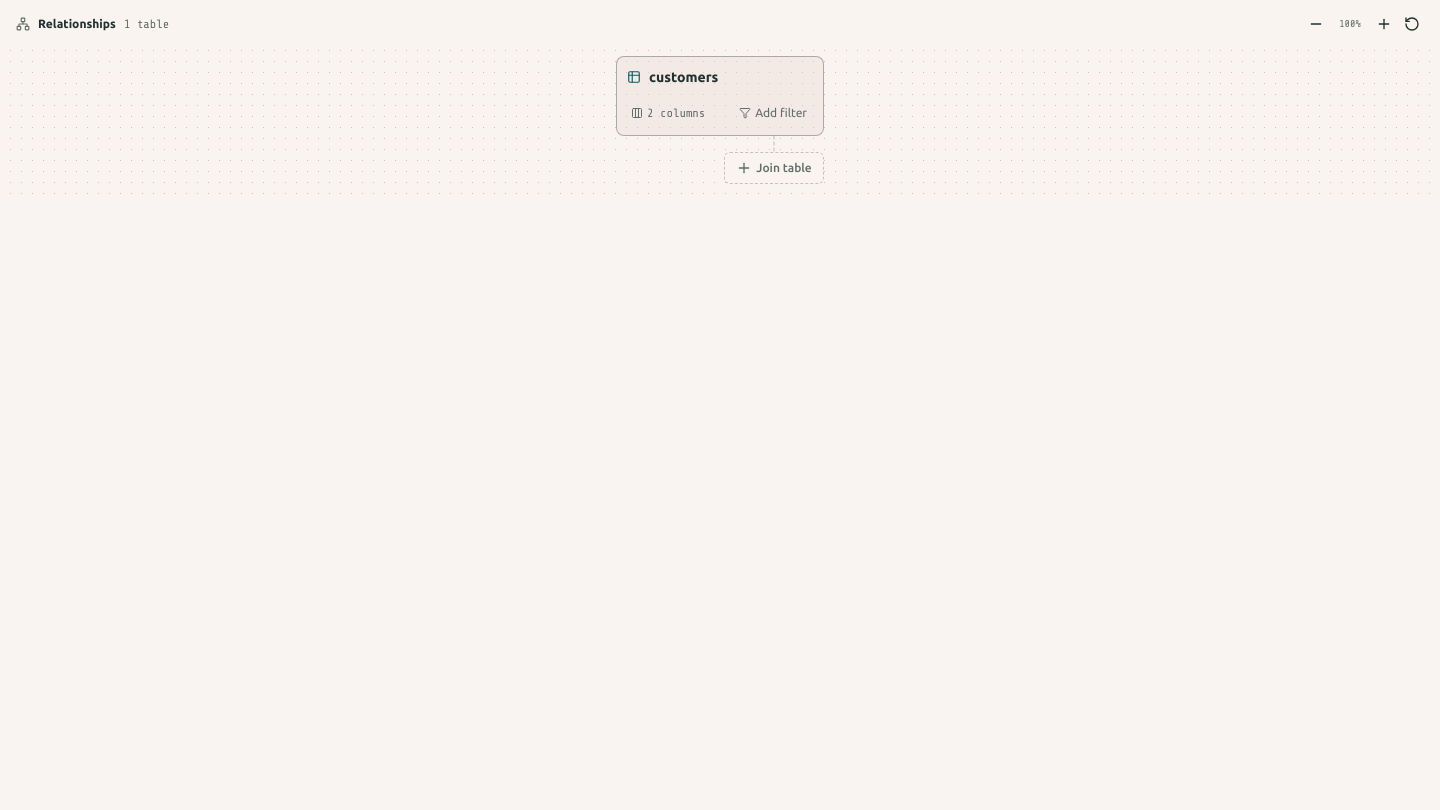
Test: TableNavigator › filters adjacent and indirectly related tables from the top of the add-table popup
This screenshot has width=1440, height=810.
Click the button with aria-label "Add related table to customers" at (774, 168), box x1=724 y1=152 x2=824 y2=184
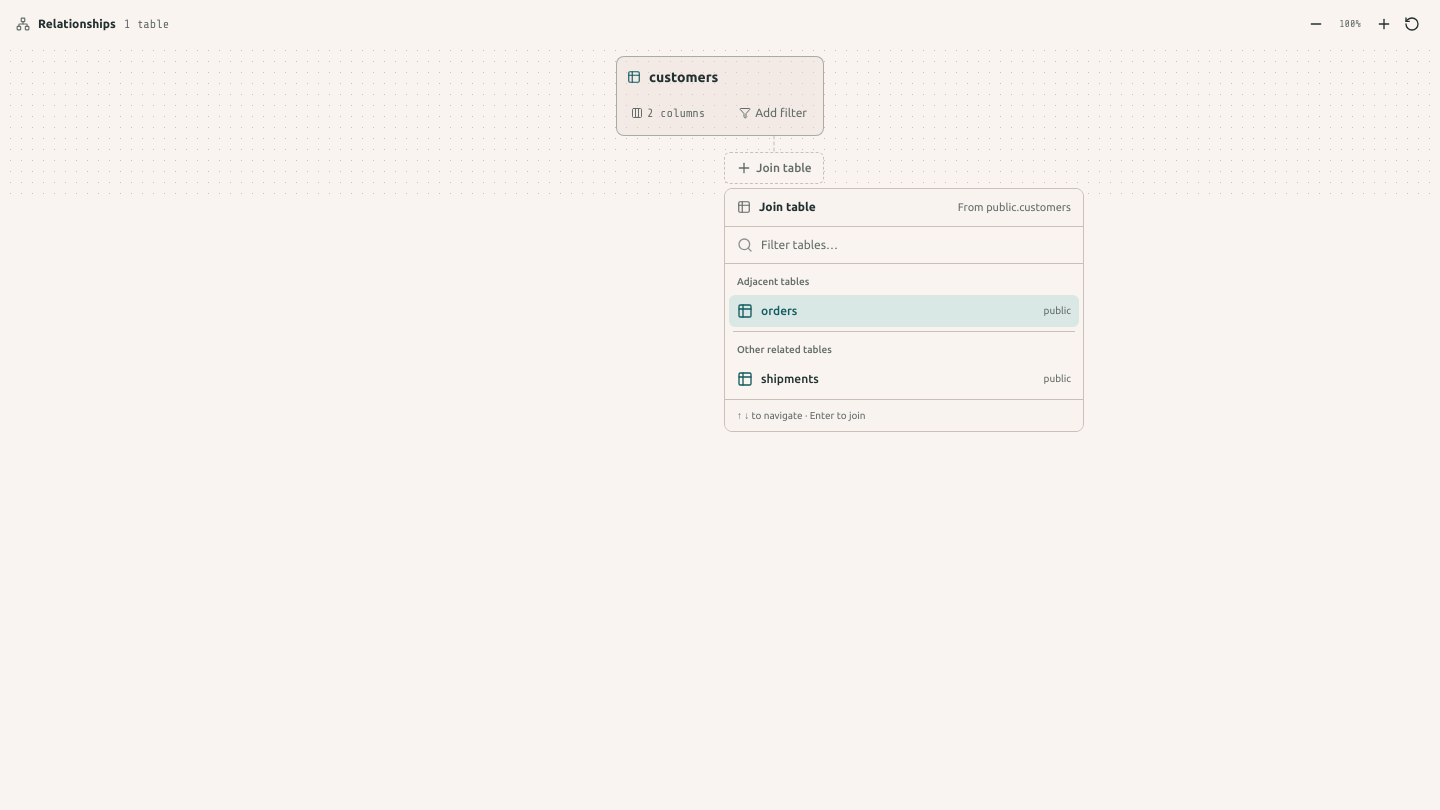
Expected: the option "orders public" is shown, x1=729 y1=294 x2=1079 y2=326
Expected: the option "shipments public" is shown, x1=737 y1=370 x2=1071 y2=386
Type "s" into the dropdown labelled "Filter tables" at (916, 244), box x1=761 y1=226 x2=1071 y2=262
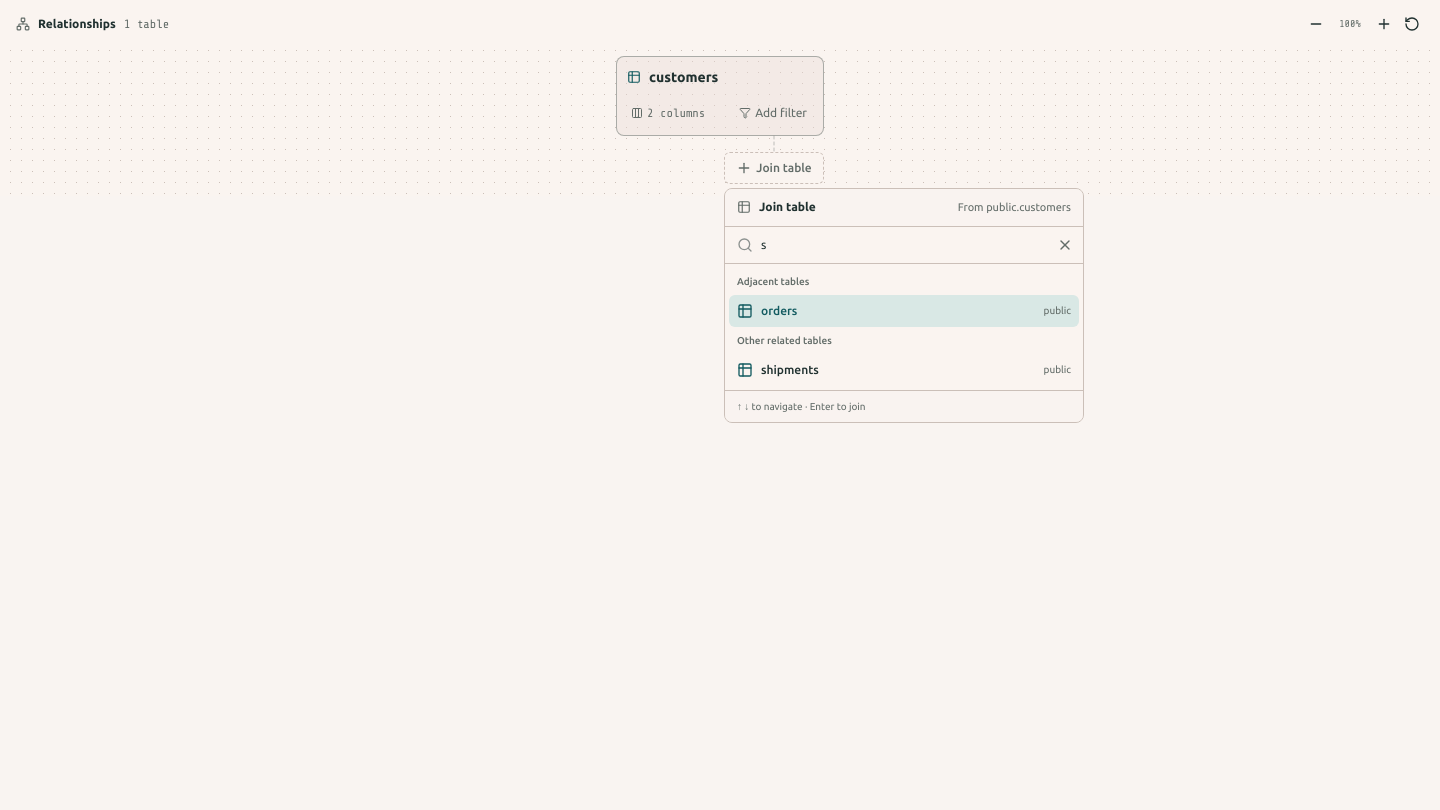
Replace the text in the dropdown named "Filter tables" with "SHIP" at (916, 244), box x1=761 y1=226 x2=1071 y2=262
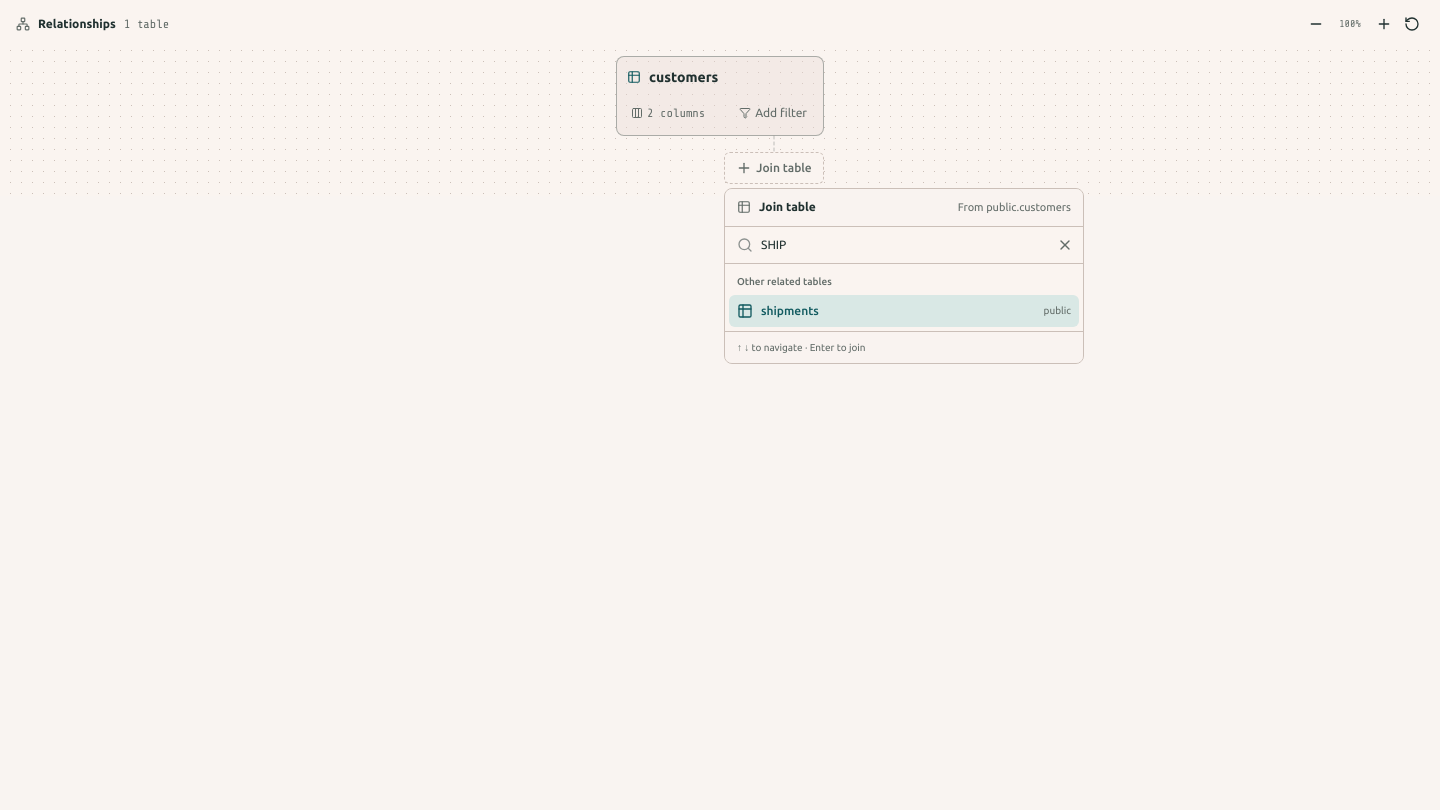
Expected: the option "shipments public" is shown, x1=729 y1=294 x2=1079 y2=326
Expected: the option "orders" is gone
Click the button named "Clear table search" at (1065, 244), box x1=1051 y1=230 x2=1079 y2=258
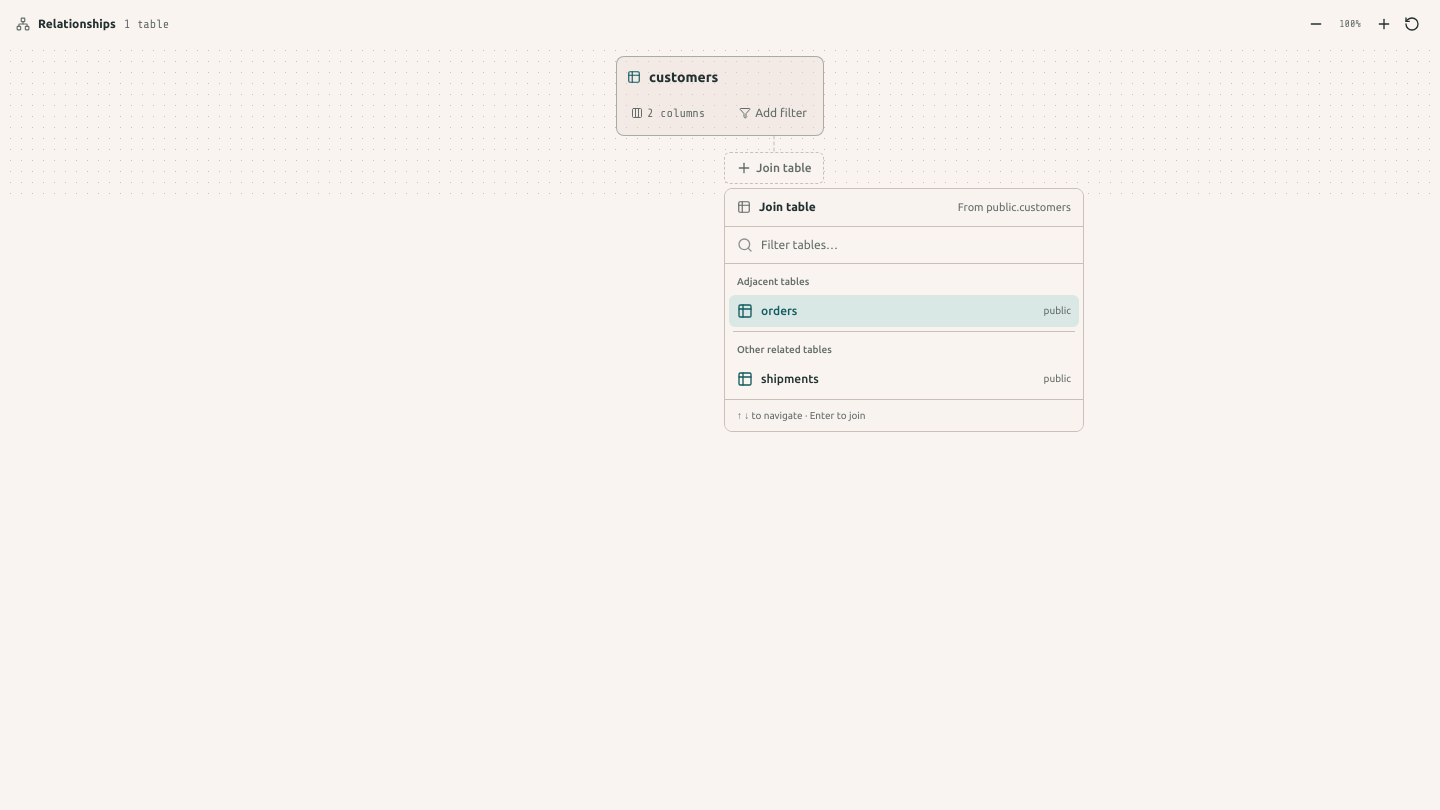
Type "public.orders" into the dropdown labelled "Filter tables" at (916, 244), box x1=761 y1=226 x2=1071 y2=262
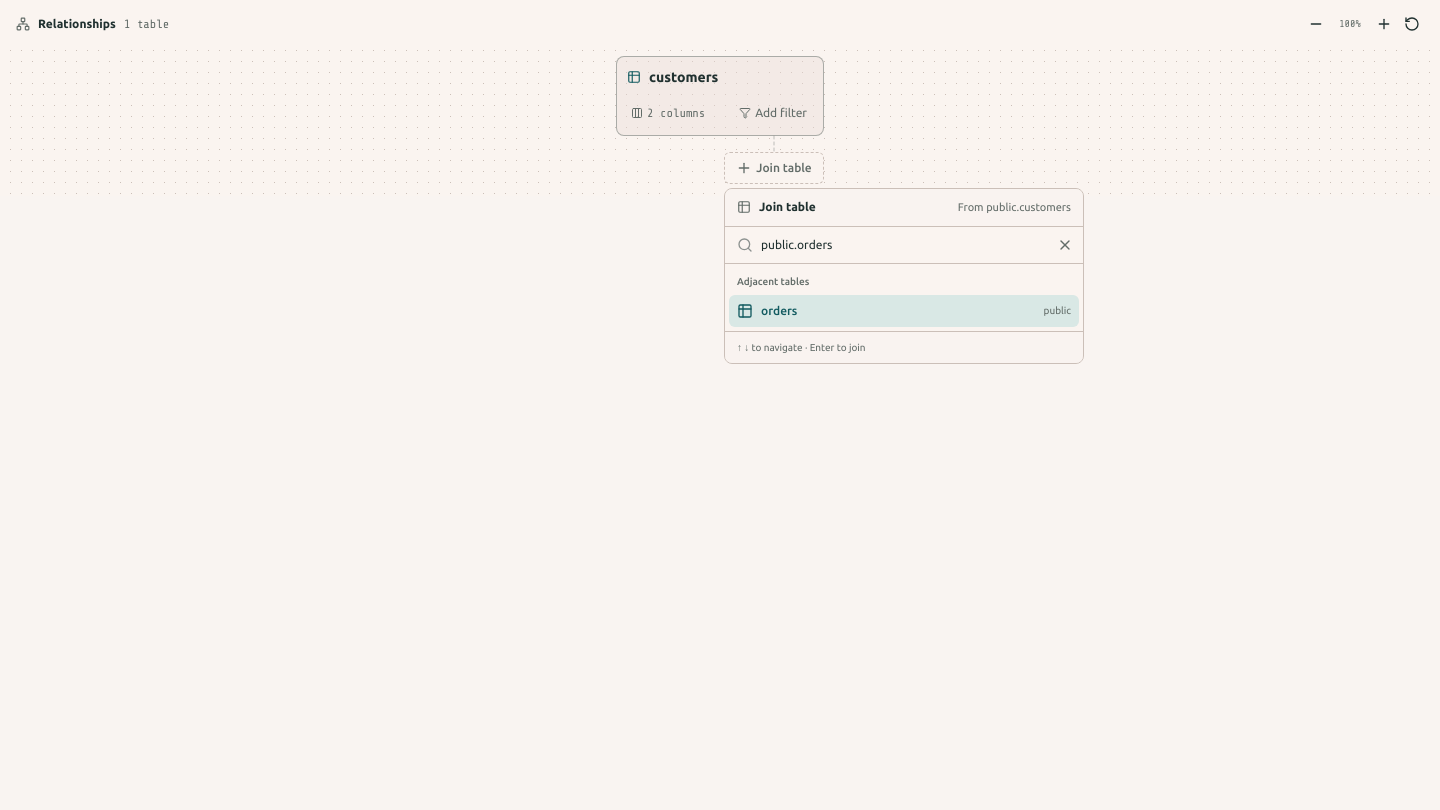
Expected: the option "orders public" is shown, x1=729 y1=294 x2=1079 y2=326
Expected: the option "shipments" is gone
Replace the text in the dropdown named "Filter tables" with "missing" at (916, 244), box x1=761 y1=226 x2=1071 y2=262
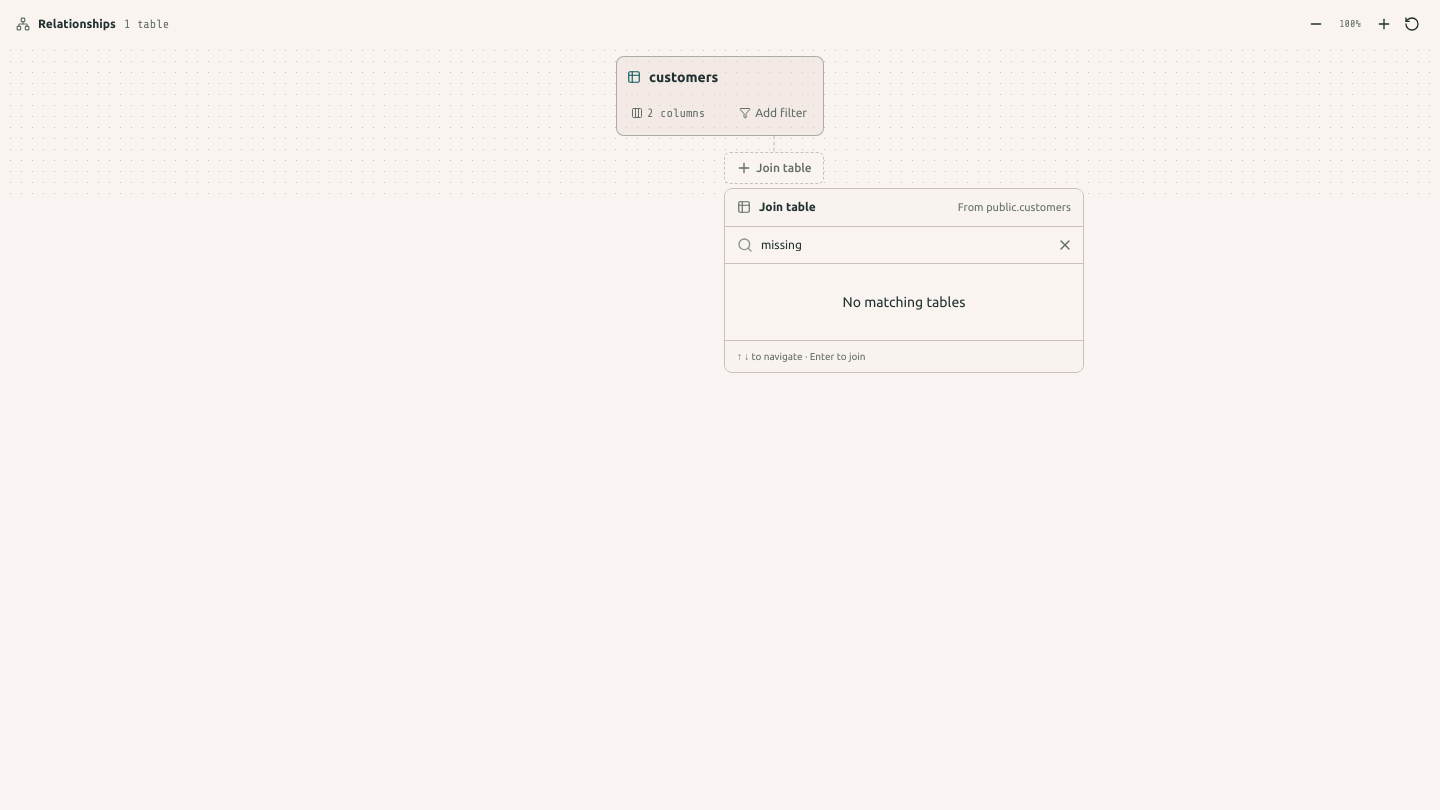
Expected: the text "No matching tables" is shown, x1=842 y1=294 x2=966 y2=310
